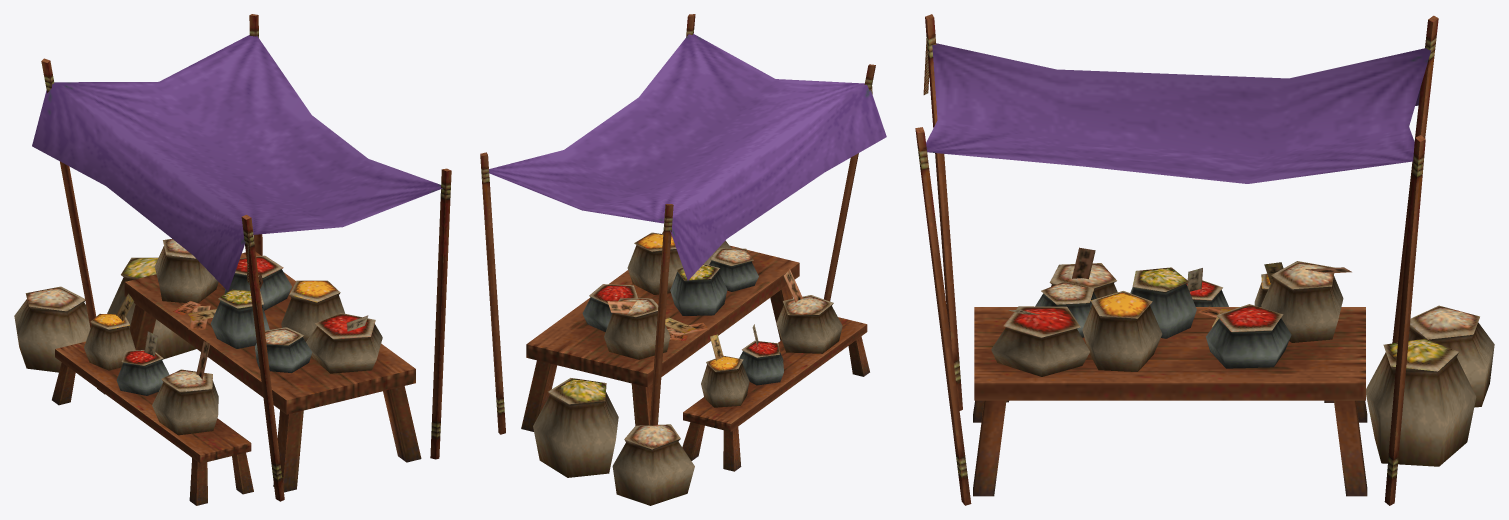
The model's file is xsz_xiaotan_1.FBX.
3 renders of one model, left to right at view 1: azimuth 30°, elevation 25°; view 2: azimuth 150°, elevation 25°; view 3: azimuth 270°, elevation 25°, orthographic. The views are drawn at different scales.
Parts seen in each view (by area): view 1: xsz_xiaotan_1; view 2: xsz_xiaotan_1; view 3: xsz_xiaotan_1.
Boxes of the visible parts, <box> form: xsz_xiaotan_1: <box>14,14,451,505</box>; xsz_xiaotan_1: <box>480,14,886,505</box>; xsz_xiaotan_1: <box>915,14,1494,505</box>.
Bounding box in the file's own units: 207 × 254 × 359.
